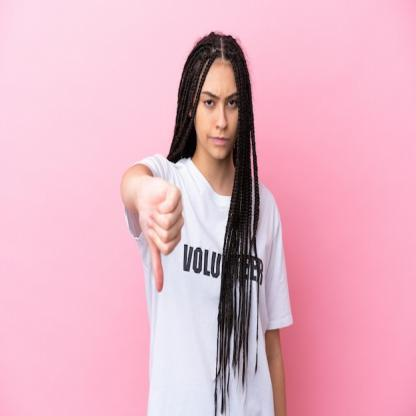thumb_down: (136, 172, 184, 292)
